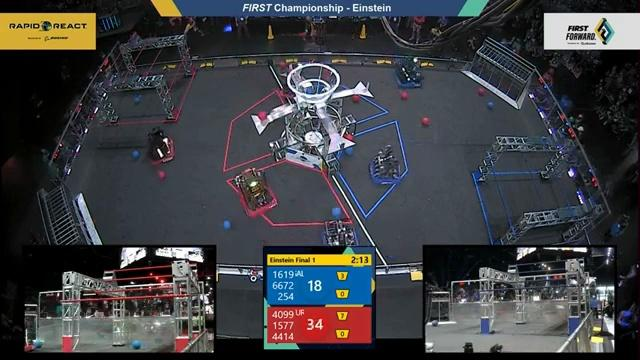robot: (231, 163, 280, 218), (138, 125, 181, 169), (312, 217, 371, 248), (364, 141, 403, 187), (389, 54, 425, 94), (25, 341, 36, 354)
